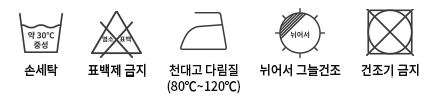KR_flat_dry_in_shade: (270, 5, 327, 60)
KR_hand_wash_30_neutral: (17, 8, 65, 57)
KR_no_chlorine_bleach: (86, 9, 144, 62)
KR_no_tumble_dry: (363, 5, 415, 58)
